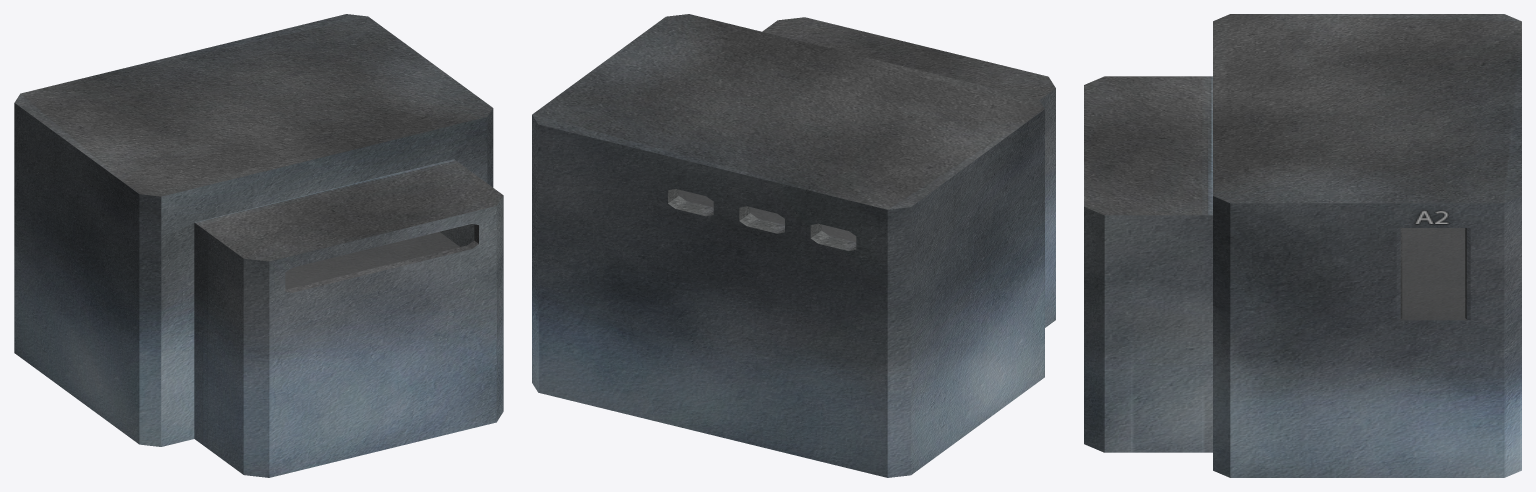
The model's file is SideLab.obj.
3 views of the same model, side by side, from view 1: azimuth 30°, elevation 25°; view 2: azimuth 150°, elevation 25°; view 3: azimuth 270°, elevation 25° (orthographic). The views are drawn at different scales.
Parts seen in each view (by area): view 1: Side_Lab_SideLab; view 2: Side_Lab_SideLab; view 3: Side_Lab_SideLab.
Boxes of the visible parts, x1,y1,x2,y2 form: Side_Lab_SideLab: [14, 14, 503, 477]; Side_Lab_SideLab: [532, 14, 1055, 477]; Side_Lab_SideLab: [1084, 14, 1521, 477].
Bounding box in the file's own units: 12.42 × 8.4 × 12.13.
1 material, 1 textured.
